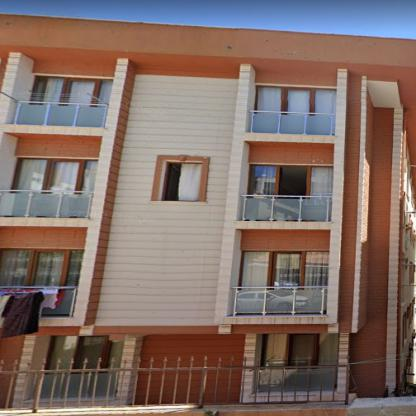window: (237, 251, 327, 289), (2, 249, 80, 287), (10, 160, 97, 194), (248, 164, 334, 197), (51, 334, 117, 371), (29, 76, 108, 106), (252, 86, 335, 113), (263, 334, 321, 364), (161, 162, 203, 200)
